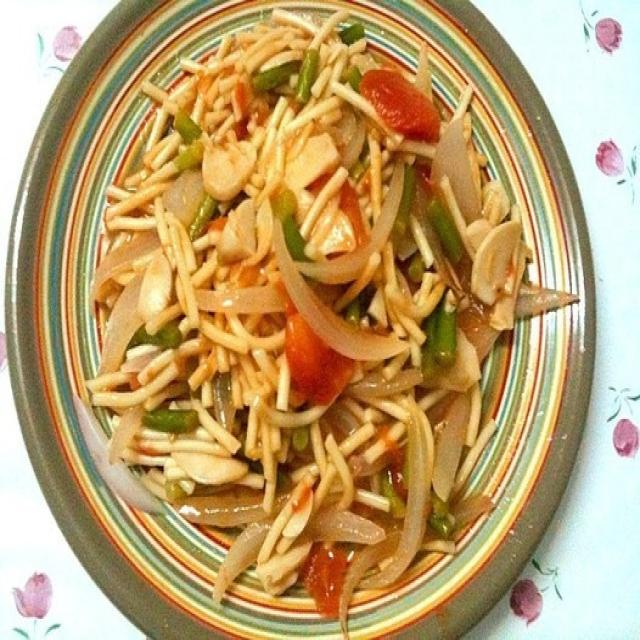面条主食: (73, 18, 560, 617)
